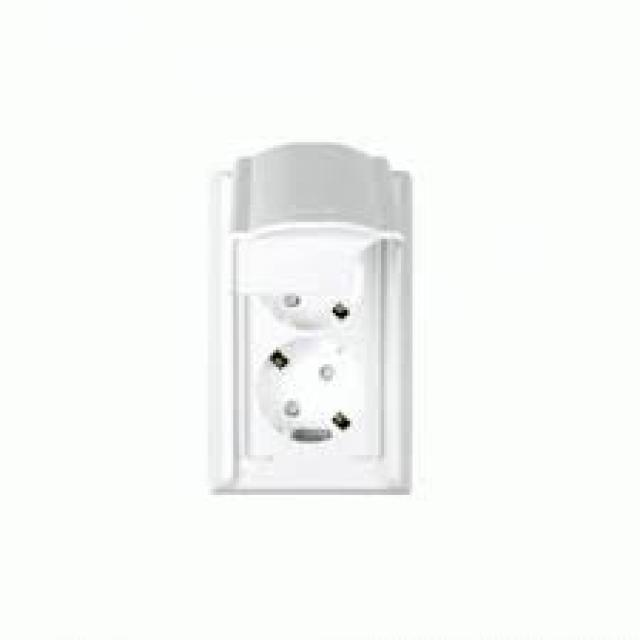typeb: (196, 121, 504, 577)
